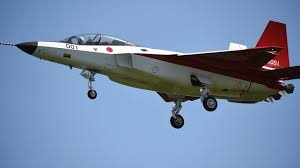fighter: (5, 18, 298, 122)
